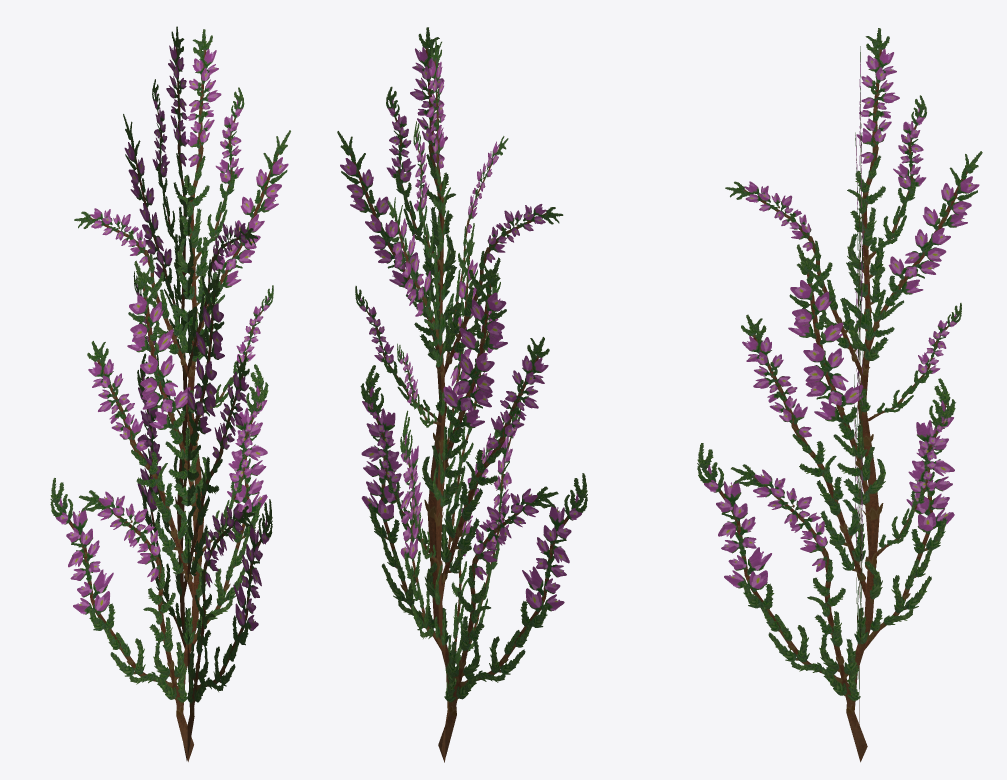
The model's file is SM_HeatherFlower_01.fbx.
3 renders of one model, left to right at view 1: azimuth 30°, elevation 25°; view 2: azimuth 150°, elevation 25°; view 3: azimuth 270°, elevation 25°, orthographic.
Parts seen in each view (by area): view 1: SM_HeatherFlower_01_LOD0; view 2: SM_HeatherFlower_01_LOD0; view 3: SM_HeatherFlower_01_LOD0.
Part boxes in pixels (left/top/right/bottom): SM_HeatherFlower_01_LOD0: left=50, top=26, right=290, bottom=761; SM_HeatherFlower_01_LOD0: left=337, top=27, right=587, bottom=762; SM_HeatherFlower_01_LOD0: left=697, top=28, right=982, bottom=762.
Size of the model in its own units: 33.18 by 33.18 by 81.26.
